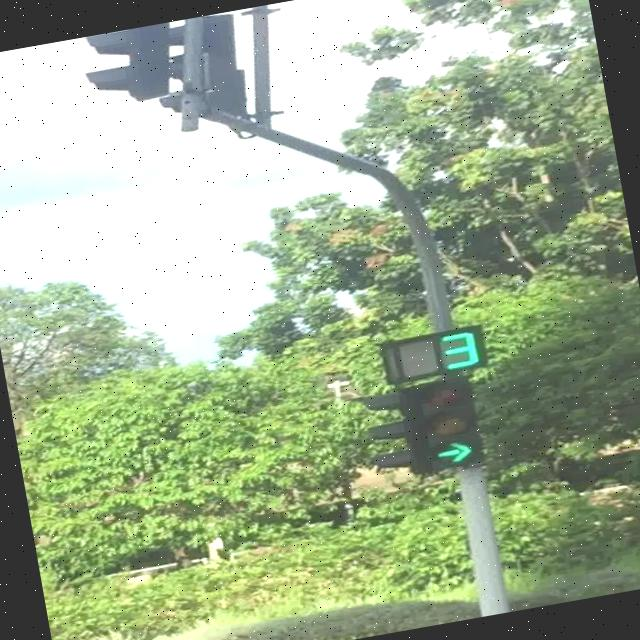green_light: (416, 373, 484, 471)
